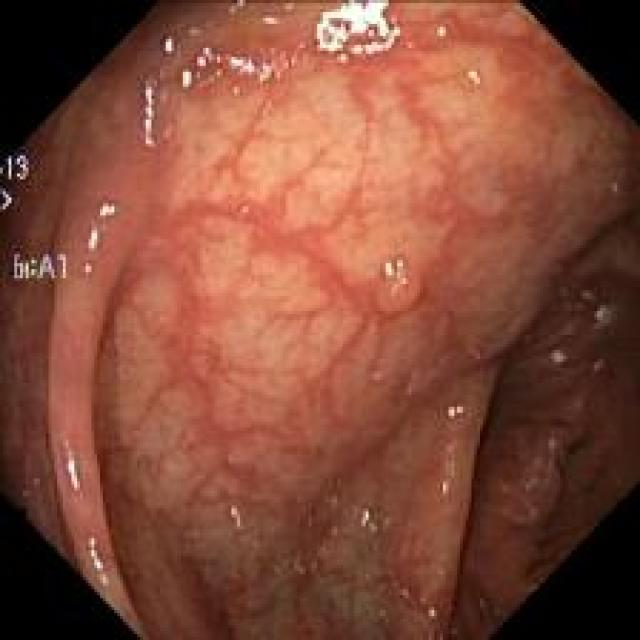Polyps: (376, 258, 421, 315)
